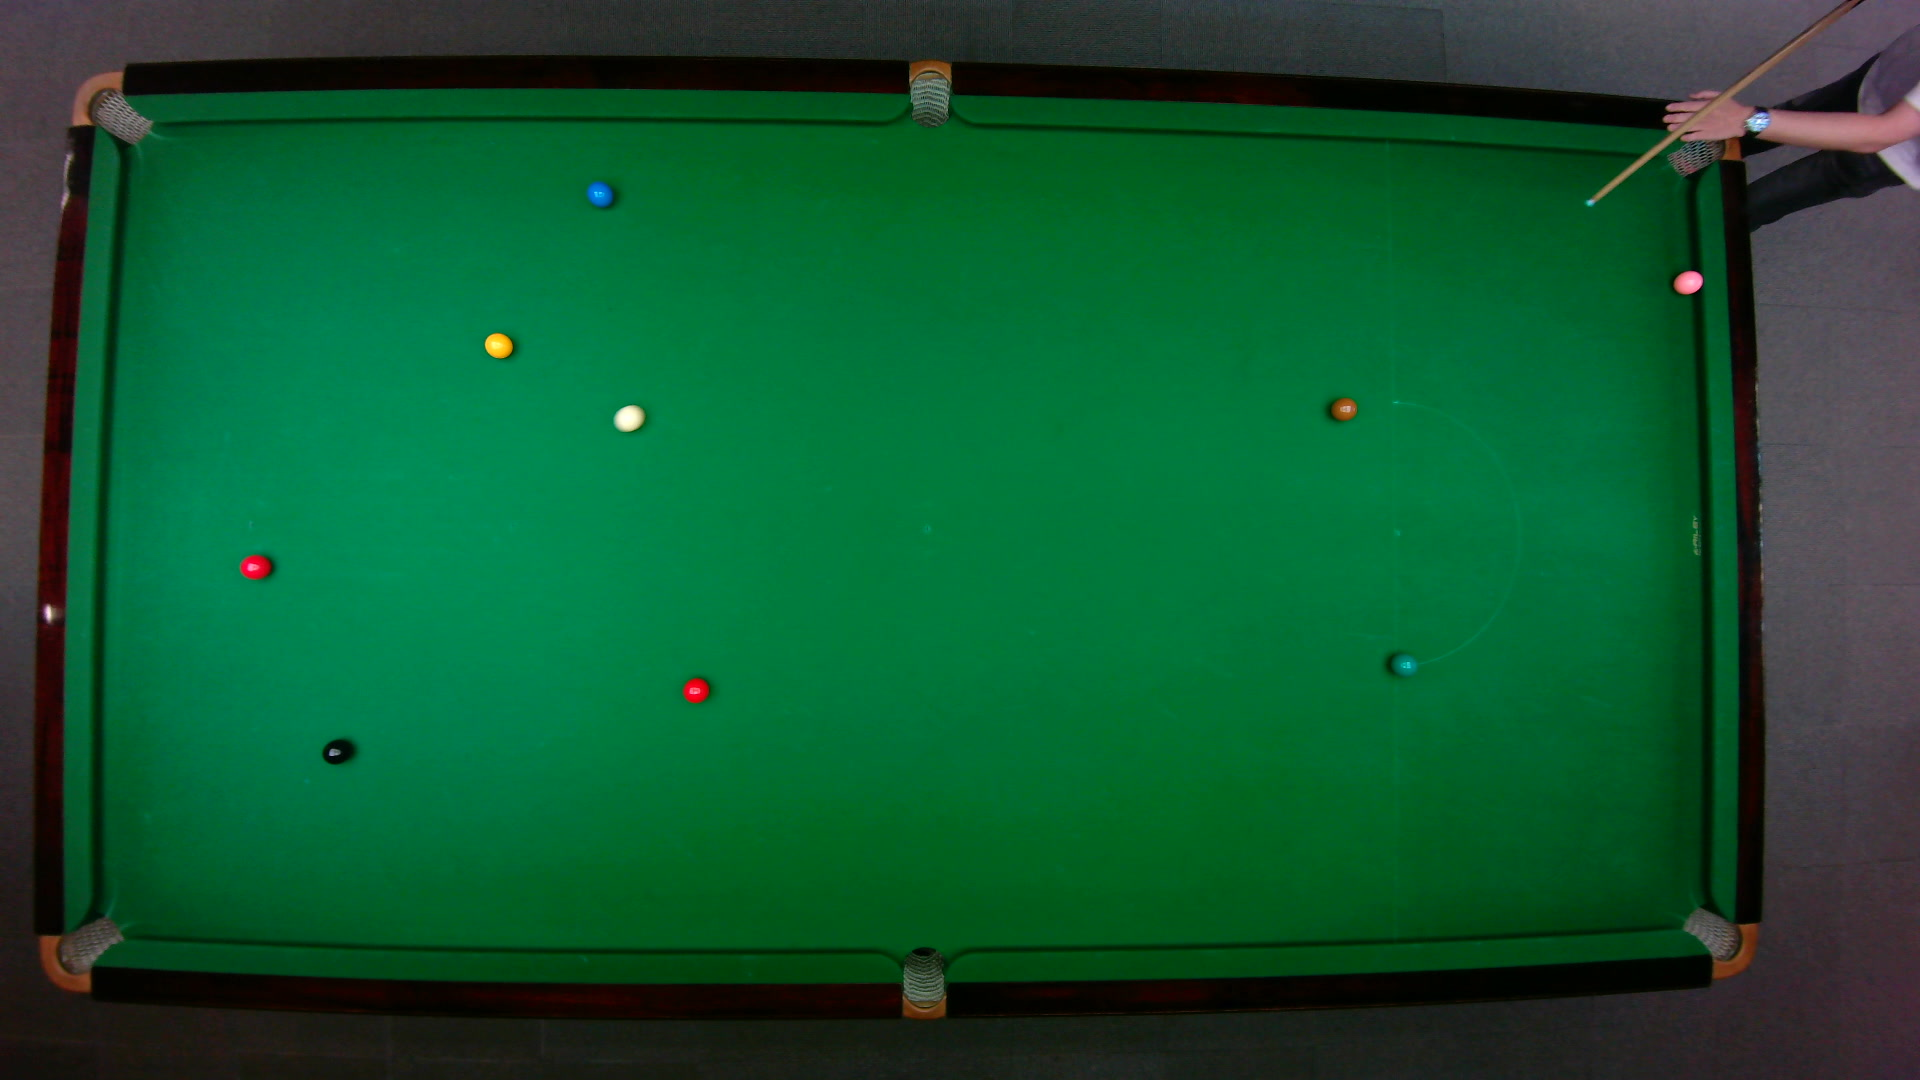bag: (38, 914, 125, 993), (69, 69, 152, 145), (1662, 105, 1746, 178), (1677, 905, 1756, 978), (901, 944, 944, 1021), (909, 57, 949, 128)
black: (320, 737, 352, 765)
blue: (584, 179, 613, 207)
brown: (1328, 396, 1360, 421)
cue: (1581, 0, 1878, 215)
green: (1389, 650, 1418, 676)
pink: (1669, 266, 1704, 295)
red: (237, 553, 272, 580), (680, 675, 709, 704)
white: (611, 402, 646, 433)
yellow: (483, 330, 514, 359)
zone: (1389, 400, 1519, 666)
